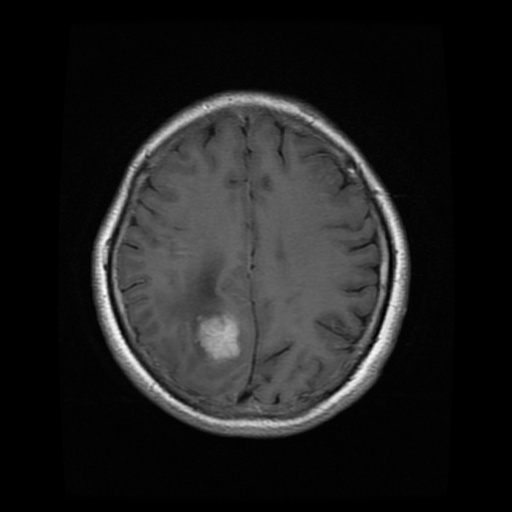meningioma: (198, 312, 239, 360)
